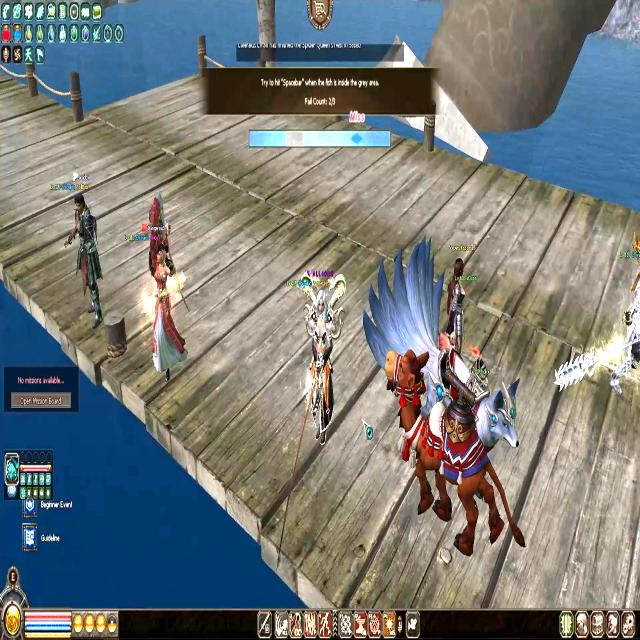fishes: (350, 132, 362, 144)
